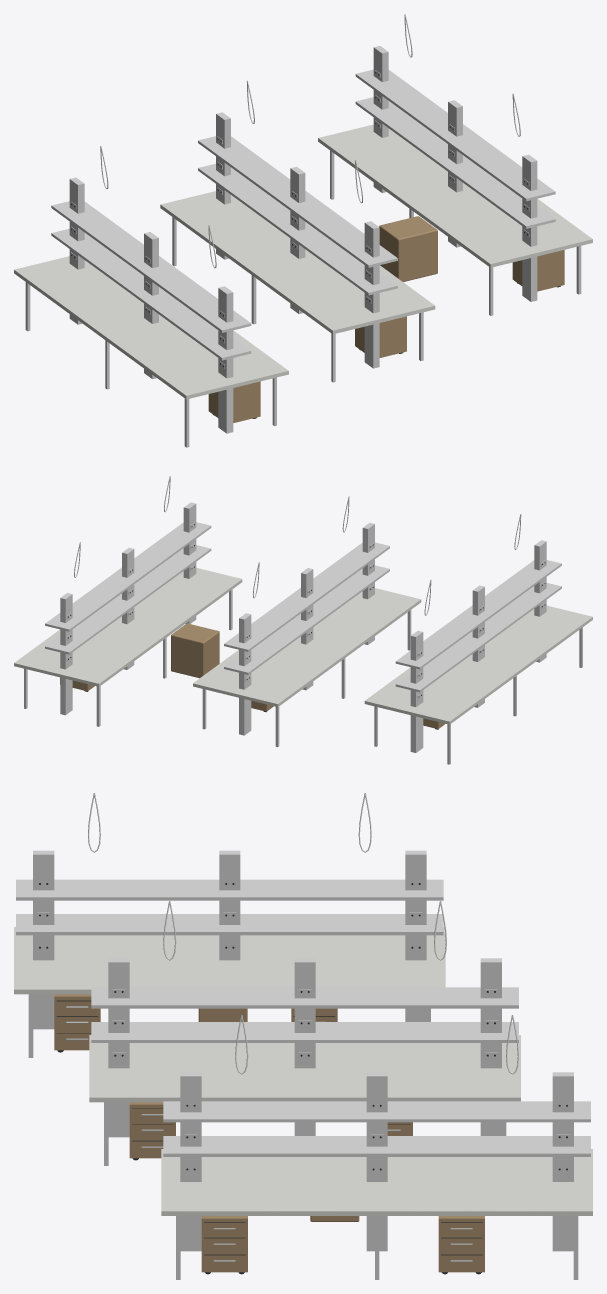
Rendered from SM_L6_Furniture_Solid_5a73cbc518_0.fbx.
3 views of the same model, one above another, from view 1: azimuth 30°, elevation 25°; view 2: azimuth 150°, elevation 25°; view 3: azimuth 270°, elevation 25° (orthographic). The views are drawn at different scales.
Visible parts, largest first — view 1: SM_L6_Furniture_Solid_5a73cbc518_0; view 2: SM_L6_Furniture_Solid_5a73cbc518_0; view 3: SM_L6_Furniture_Solid_5a73cbc518_0.
Part boxes in pixels (x1,y1,x2,y2): SM_L6_Furniture_Solid_5a73cbc518_0: (14,14,592,447); SM_L6_Furniture_Solid_5a73cbc518_0: (14,476,592,764); SM_L6_Furniture_Solid_5a73cbc518_0: (14,793,592,1279).
Bounding box in the file's own units: 7.95 × 6.84 × 3.12.
